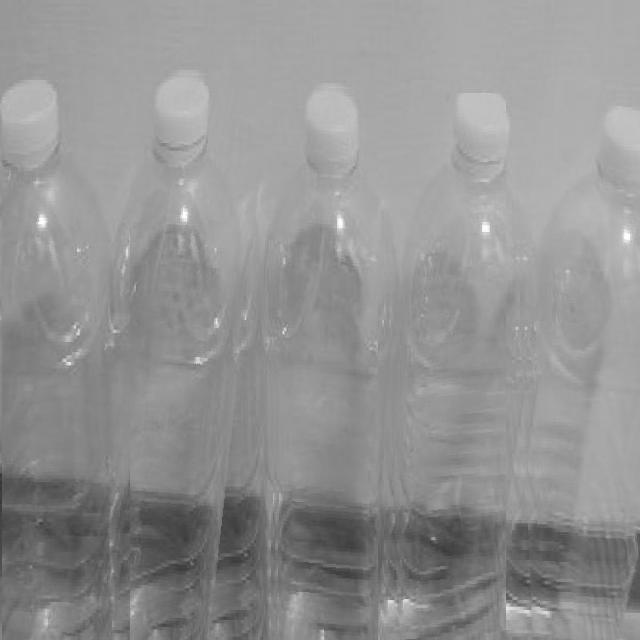plastic bottle: (2, 80, 164, 640), (130, 70, 271, 640), (512, 90, 640, 640), (382, 93, 506, 640), (268, 83, 378, 640)
